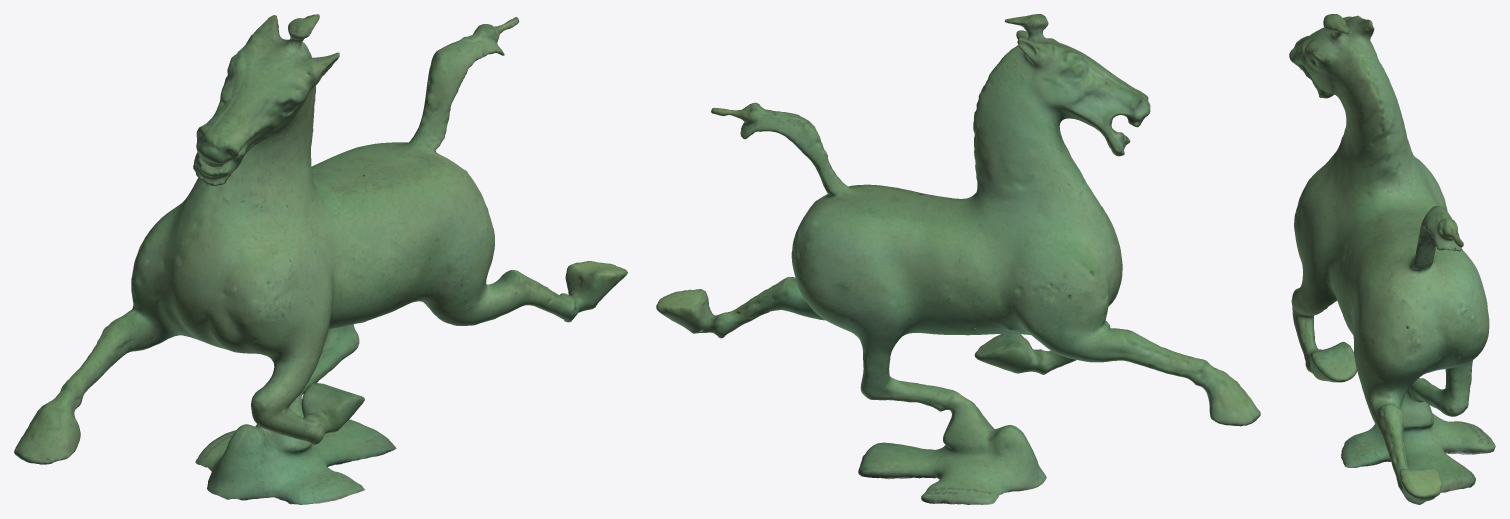
The picture shows the model from 3 angles, left to right: view 1: azimuth 30°, elevation 25°; view 2: azimuth 150°, elevation 25°; view 3: azimuth 270°, elevation 25°; orthographic projection. The views are drawn at different scales.
Parts seen in each view (by area): view 1: horse.o.002; view 2: horse.o.002; view 3: horse.o.002.
Part boxes in pixels (<box>): horse.o.002: <box>14,14,627,504</box>; horse.o.002: <box>656,14,1260,504</box>; horse.o.002: <box>1289,14,1495,504</box>.
Bounding box in the file's own units: 211 × 155 × 68.6.
Materials: 1 (1 with a texture image).
